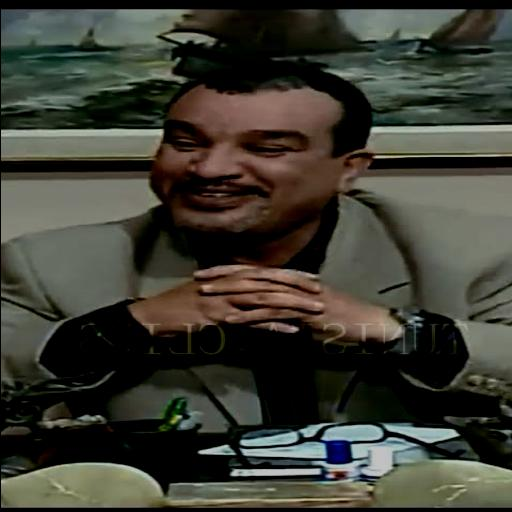slimane: (150, 61, 372, 238)
